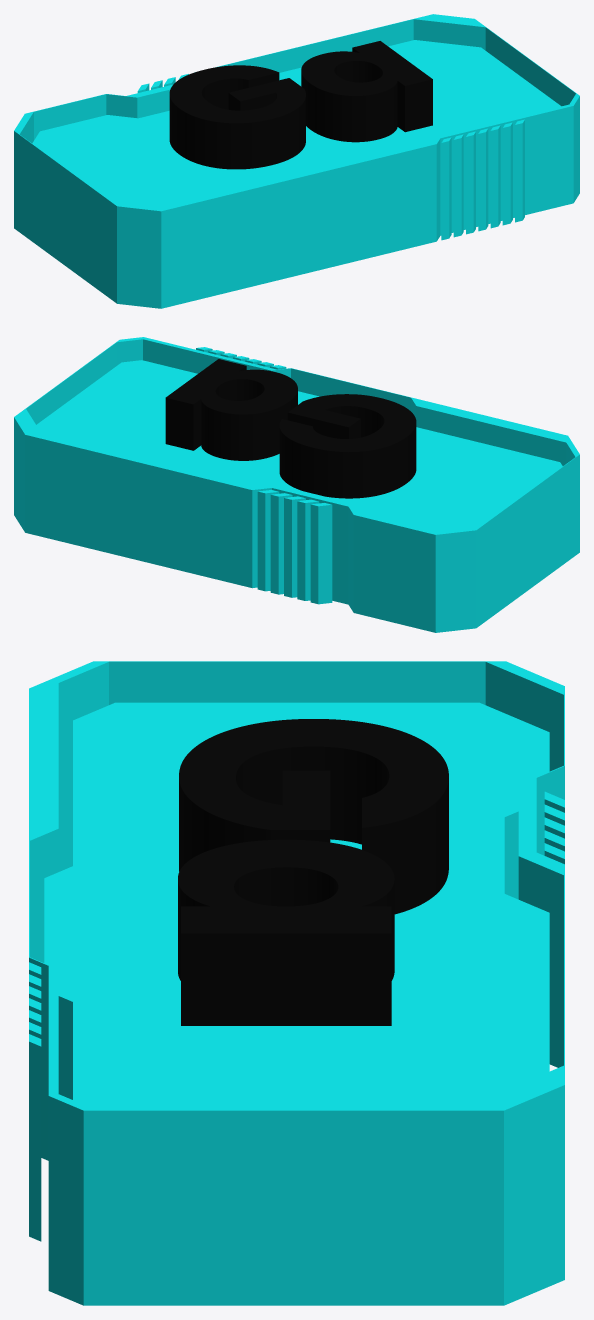
File: 12.HurufGa.glb
3 views of the same model, one above another, from view 1: azimuth 30°, elevation 25°; view 2: azimuth 150°, elevation 25°; view 3: azimuth 270°, elevation 25° (orthographic). The views are drawn at different scales.
Visible parts, largest first — view 1: Curve.200, Curve.194, Curve.208, Curve.209, Curve.201, Curve.204, Curve.205, Curve.206, Curve.202, Curve.203, Curve.207; view 2: Curve.200, Curve.194, Curve.208, Curve.209, Curve.199, Curve.196, Curve.195, Curve.197, Curve.198; view 3: Curve.200, Curve.194, Curve.209, Curve.208, Curve.207.
Part boxes in pixels (x1=…): Curve.200: x1=14, y1=14, x2=579, y2=308; Curve.194: x1=32, y1=40, x2=560, y2=207; Curve.208: x1=169, y1=65, x2=305, y2=169; Curve.209: x1=301, y1=41, x2=432, y2=142; Curve.201: x1=441, y1=137, x2=451, y2=240; Curve.204: x1=478, y1=128, x2=488, y2=231; Curve.205: x1=490, y1=125, x2=500, y2=228; Curve.206: x1=502, y1=122, x2=512, y2=225; Curve.202: x1=453, y1=134, x2=463, y2=237; Curve.203: x1=466, y1=131, x2=475, y2=234; Curve.207: x1=515, y1=119, x2=524, y2=222; Curve.200: x1=14, y1=337, x2=579, y2=632; Curve.194: x1=36, y1=360, x2=562, y2=532; Curve.208: x1=279, y1=394, x2=416, y2=498; Curve.209: x1=165, y1=359, x2=297, y2=460; Curve.199: x1=310, y1=503, x2=332, y2=604; Curve.196: x1=270, y1=493, x2=292, y2=594; Curve.195: x1=257, y1=490, x2=279, y2=591; Curve.197: x1=284, y1=496, x2=305, y2=597; Curve.198: x1=297, y1=499, x2=319, y2=600; Curve.200: x1=29, y1=661, x2=564, y2=1305; Curve.194: x1=44, y1=702, x2=549, y2=1109; Curve.209: x1=178, y1=839, x2=394, y2=1025; Curve.208: x1=179, y1=719, x2=448, y2=914; Curve.207: x1=29, y1=1034, x2=41, y2=1241.
Size of the model in its own units: 0.2966 by 0.0777 by 0.1496.
